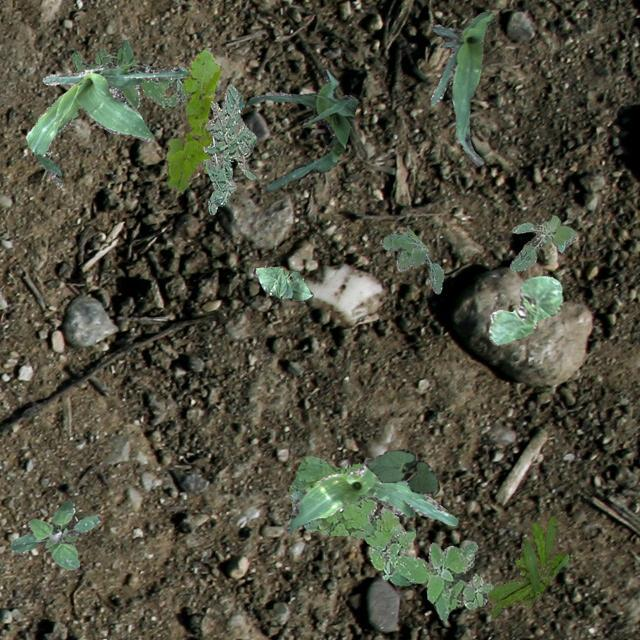crop: (24, 62, 188, 186), (246, 68, 356, 192), (284, 464, 456, 532), (430, 9, 492, 164), (488, 276, 562, 344), (364, 448, 438, 494), (252, 266, 312, 300)
weed: (288, 456, 414, 554), (368, 540, 492, 620), (487, 516, 568, 616), (163, 49, 220, 190), (70, 40, 188, 106), (202, 82, 255, 214), (10, 498, 100, 568), (382, 225, 442, 292), (508, 214, 576, 270)
